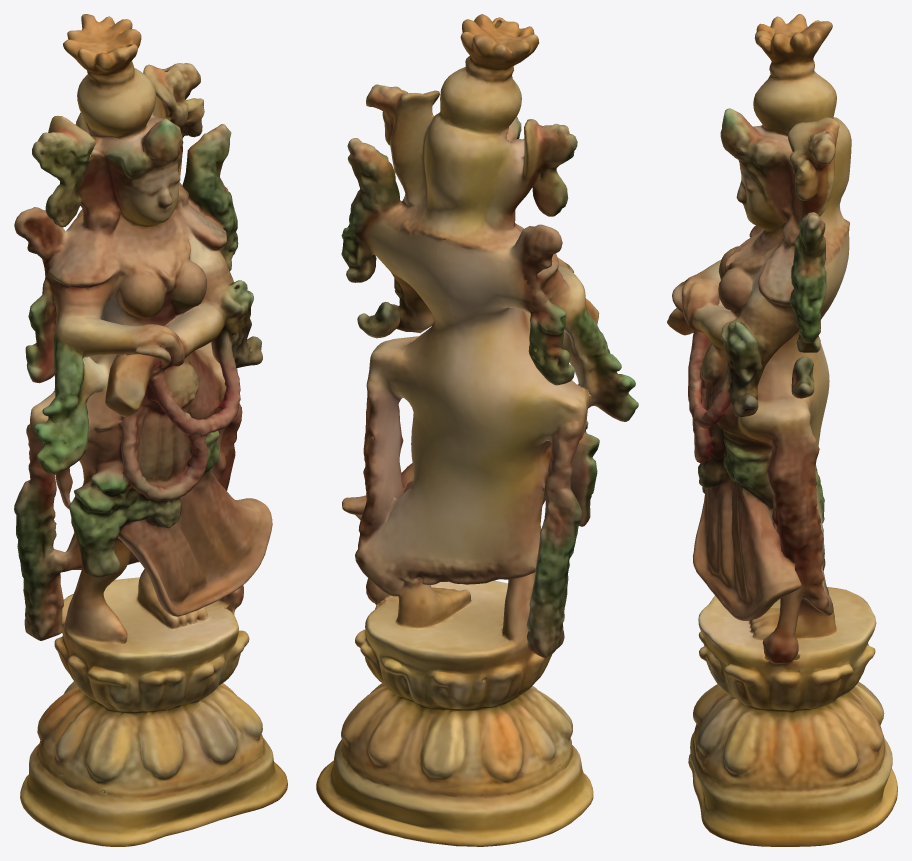
Rendered from Versa AI Model.glb.
3 views of the same model, side by side, from view 1: azimuth 30°, elevation 25°; view 2: azimuth 150°, elevation 25°; view 3: azimuth 270°, elevation 25° (orthographic). The views are drawn at different scales.
Visible parts, largest first — view 1: world; view 2: world; view 3: world.
Boxes of the visible parts, left/top/right/bottom form: world: left=14, top=14, right=287, bottom=846; world: left=316, top=14, right=638, bottom=846; world: left=667, top=14, right=897, bottom=846.
Bounding box in the file's own units: 0.361 × 1 × 0.2802.
Materials: 1 (1 with a texture image).
